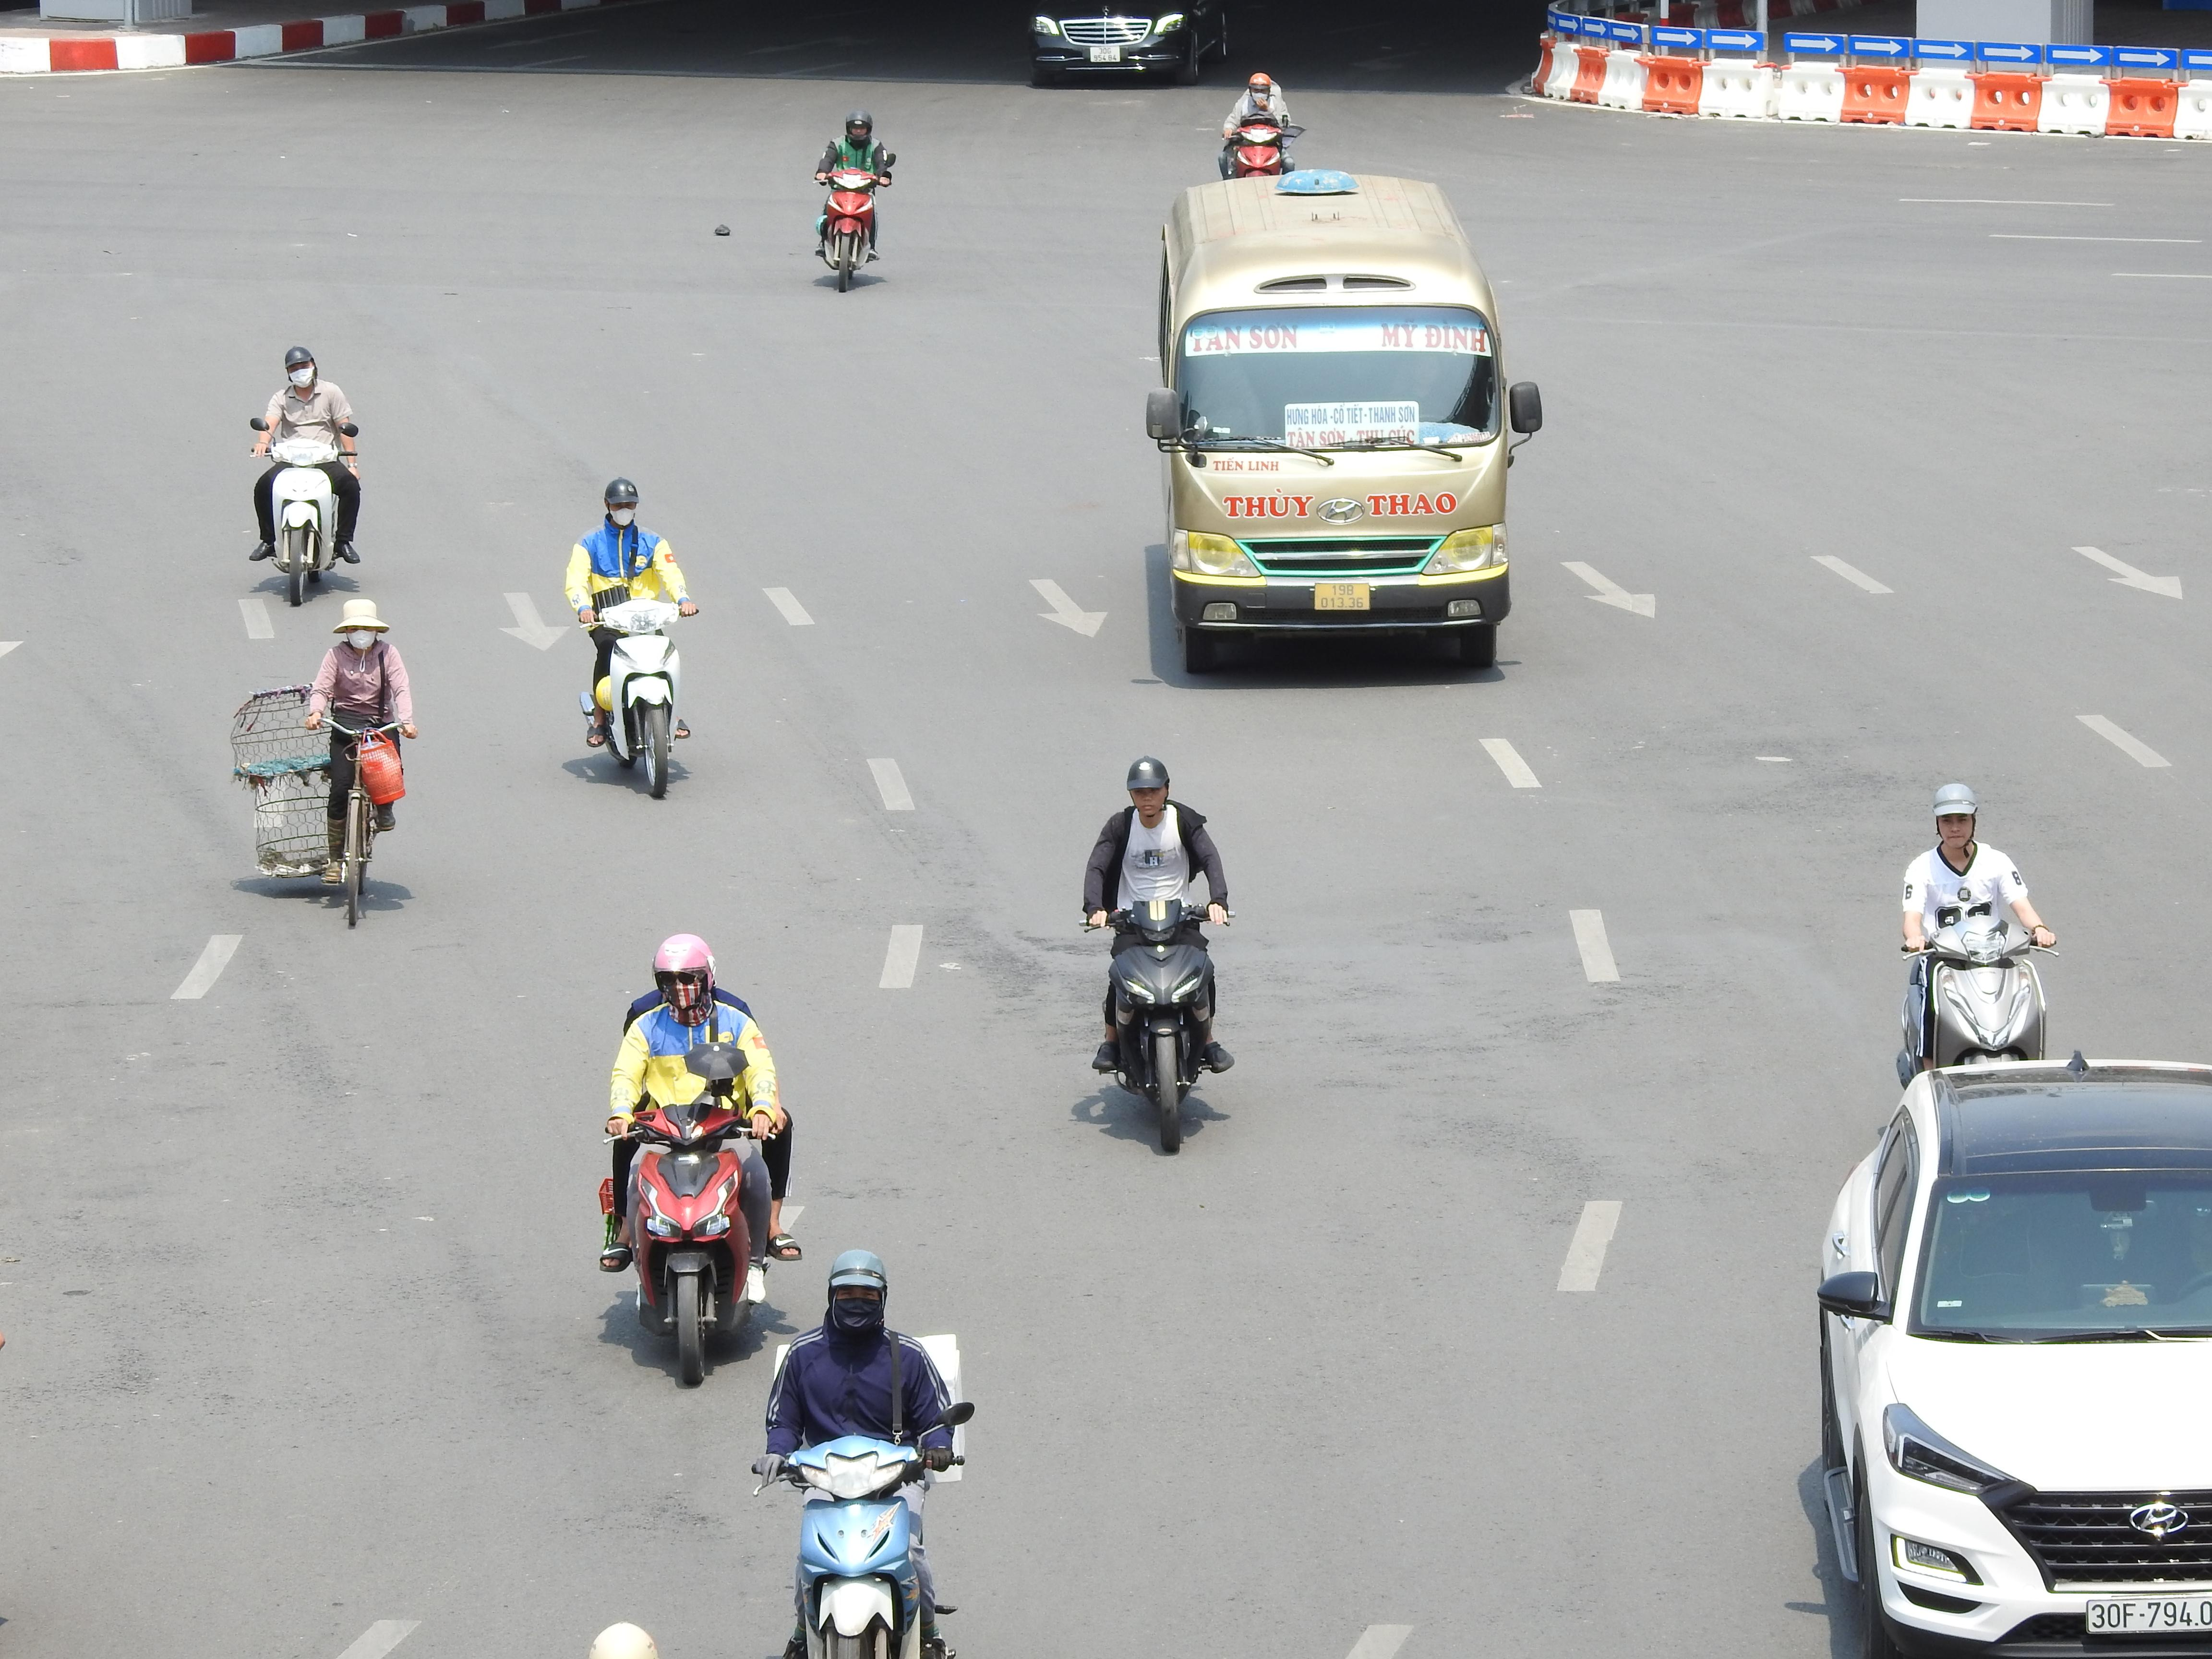BSD: (2085, 1595, 2212, 1635)
BSV: (1313, 584, 1371, 610), (1090, 45, 1120, 63)
bus: (1144, 169, 1543, 674)
car: (1804, 1053, 2212, 1659)
motorbike: (599, 931, 798, 1389), (758, 1246, 974, 1659), (228, 596, 415, 927), (1085, 755, 1231, 1155), (1897, 781, 2057, 1087), (571, 476, 695, 802), (249, 343, 362, 608), (815, 108, 892, 293), (1219, 70, 1301, 181)
